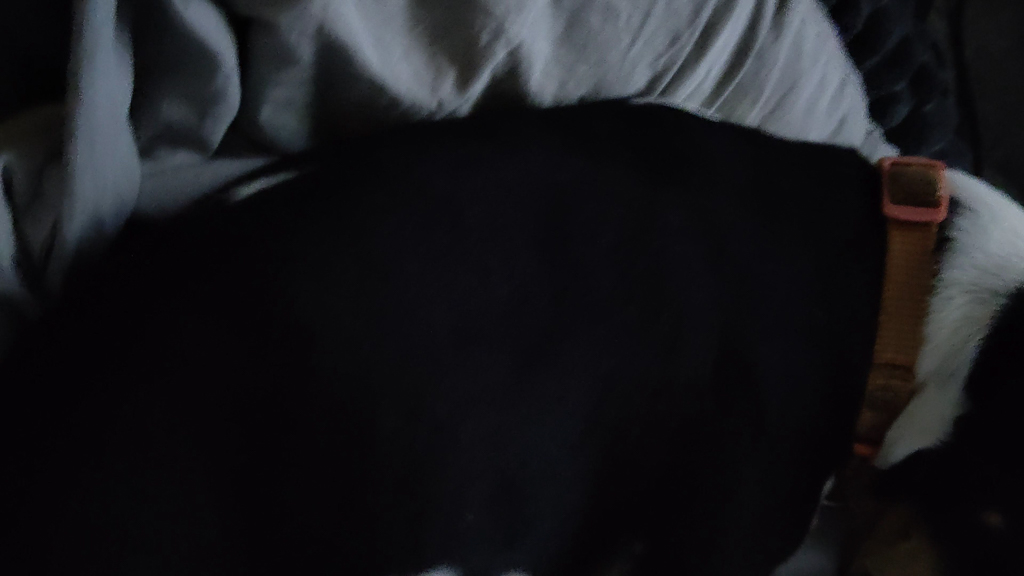Dog: (0, 85, 1024, 576)
